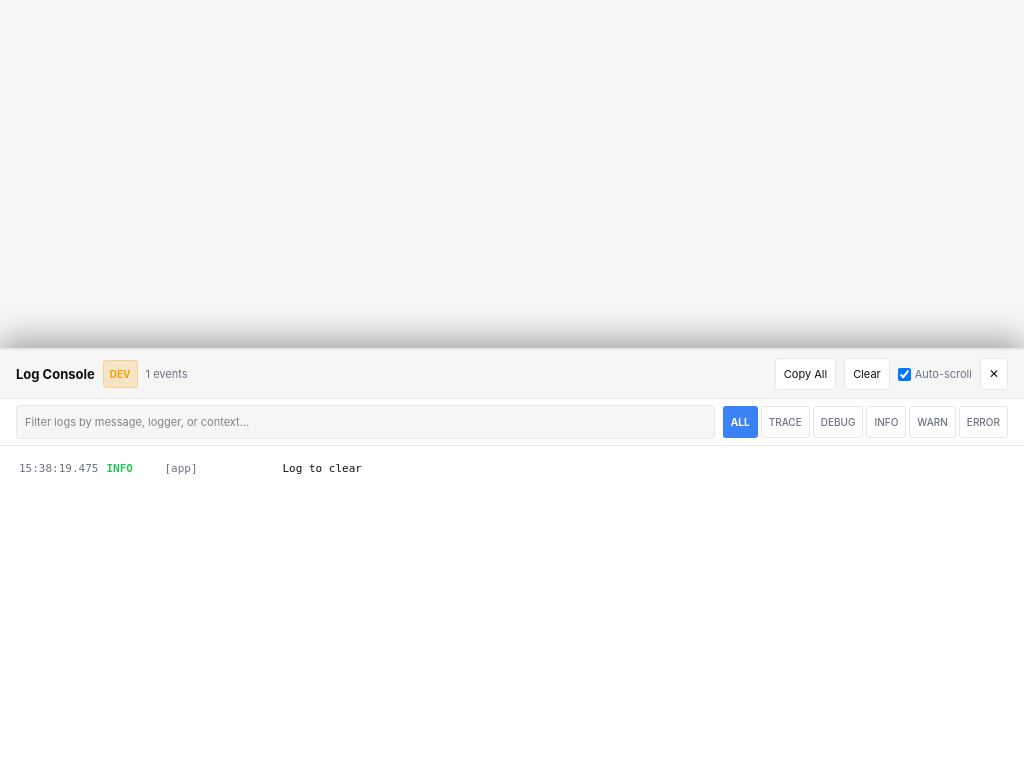
Test: LogViewer Component › clears all logs when Clear button is clicked
Expected: the text "Log to clear" is shown, top-left (282, 462), bottom-right (362, 475)
Click the button "Clear" at {"x": 867, "y": 374}, box top-left (844, 358), bottom-right (890, 390)
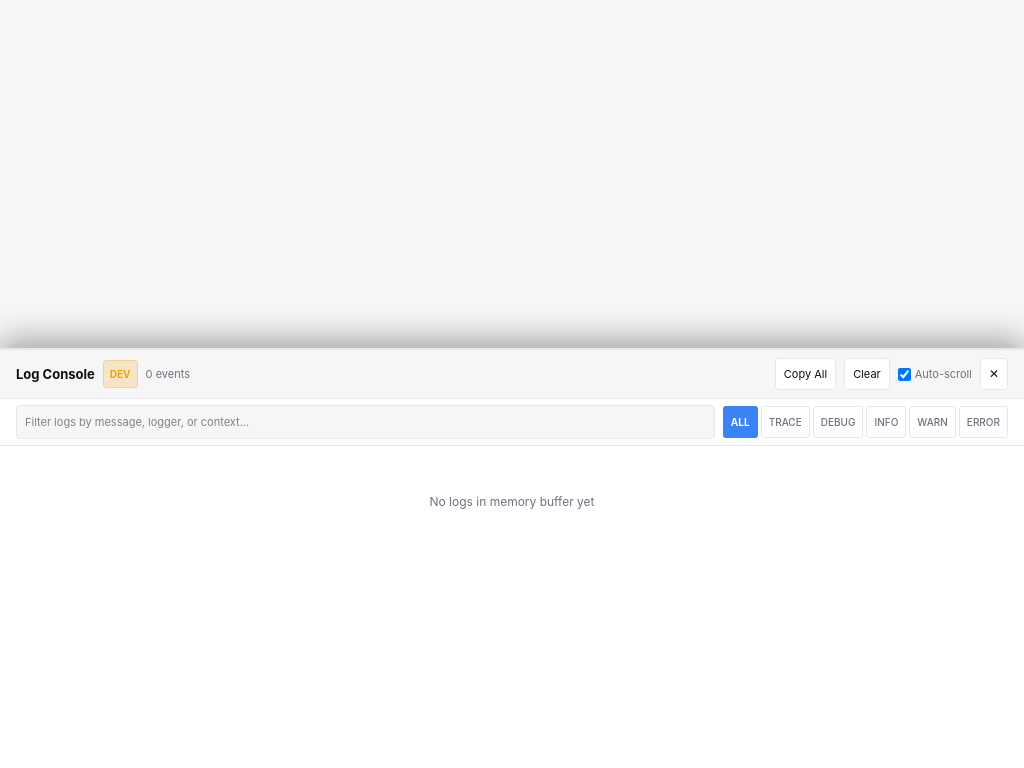
Expected: the text "Log to clear" is gone
Expected: the text "No logs in memory buffer yet" is shown, top-left (430, 494), bottom-right (594, 509)
